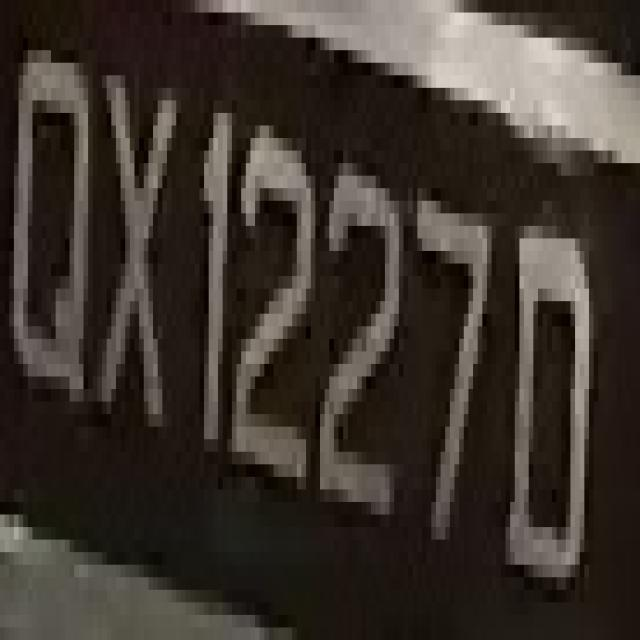1: (195, 88, 241, 489)
2: (320, 138, 408, 577), (237, 100, 316, 514)
7: (394, 188, 492, 602)
D: (487, 175, 603, 640)
Q: (9, 25, 98, 427)
X: (83, 0, 181, 477)
